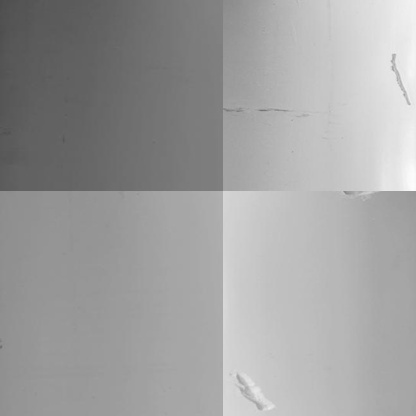sunshang: (234, 371, 279, 410), (387, 51, 414, 107), (339, 191, 377, 202)
